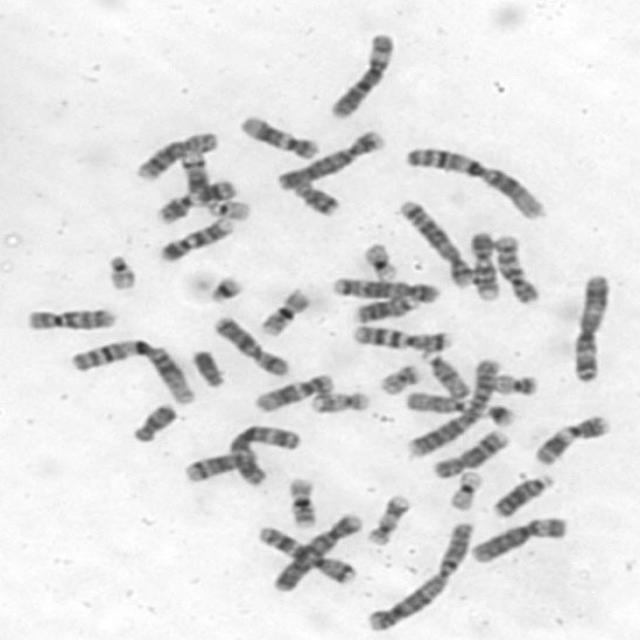A1: (402, 143, 549, 221), (67, 333, 198, 407)
A2: (363, 519, 478, 634), (402, 354, 503, 460)
A3: (568, 271, 612, 384), (226, 420, 301, 484)
B4: (267, 510, 364, 592), (272, 126, 387, 192)
B5: (395, 196, 475, 289), (328, 274, 440, 304)
C10: (490, 232, 543, 305), (22, 304, 118, 332)
C11: (529, 411, 613, 467), (153, 176, 238, 225)
C12: (234, 111, 321, 161), (250, 370, 336, 413)
C6: (324, 28, 398, 121), (466, 513, 572, 564)
C7: (253, 522, 358, 586), (348, 322, 452, 352)
C8: (131, 128, 219, 182), (428, 426, 512, 479)
C9: (154, 214, 235, 263), (465, 228, 501, 302)
D13: (490, 471, 555, 519), (349, 290, 418, 324)
D14: (177, 149, 238, 204), (181, 448, 267, 487)
D15: (417, 347, 471, 401), (402, 388, 472, 416)
E16: (256, 285, 312, 338), (284, 474, 320, 529)
E17: (363, 489, 412, 547), (306, 388, 372, 416)
E18: (289, 176, 342, 218), (128, 400, 178, 444)
F19: (359, 239, 401, 282), (444, 467, 484, 512)
F20: (377, 361, 422, 396), (489, 370, 542, 397)
G21: (206, 272, 245, 304), (482, 400, 516, 428)
G22: (101, 251, 140, 293), (205, 196, 253, 222)
X: (211, 312, 291, 378)
Y: (188, 346, 227, 388)
